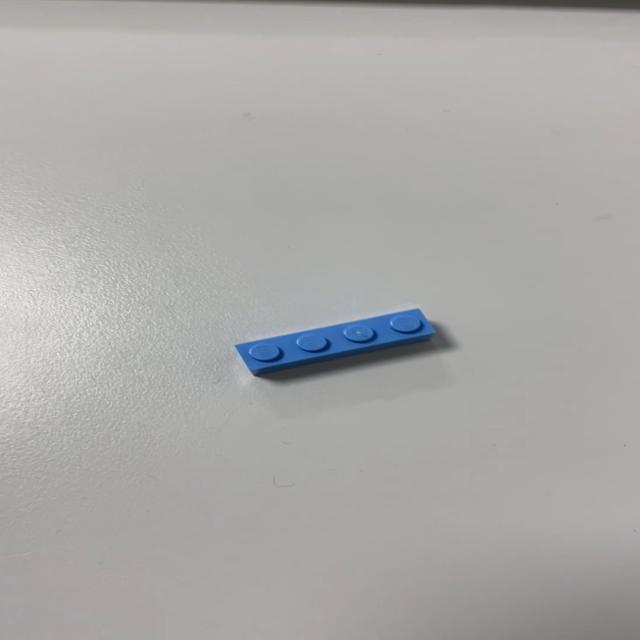C4x1x1: (232, 307, 436, 377)
